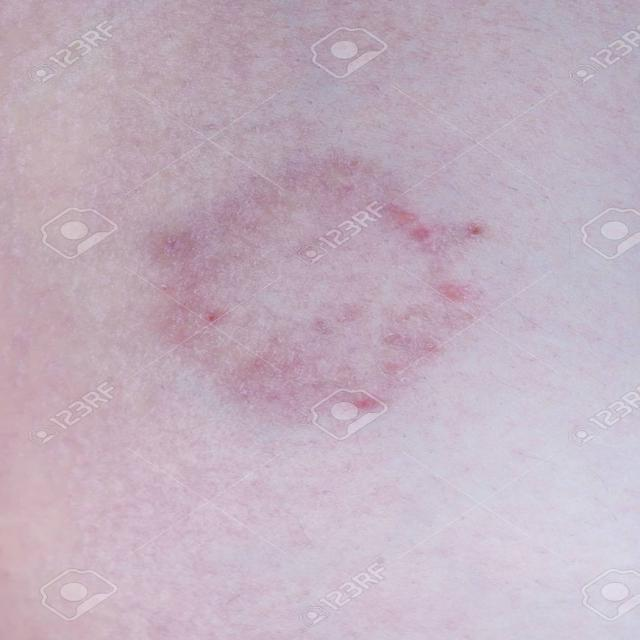tinea: (170, 146, 469, 388)
